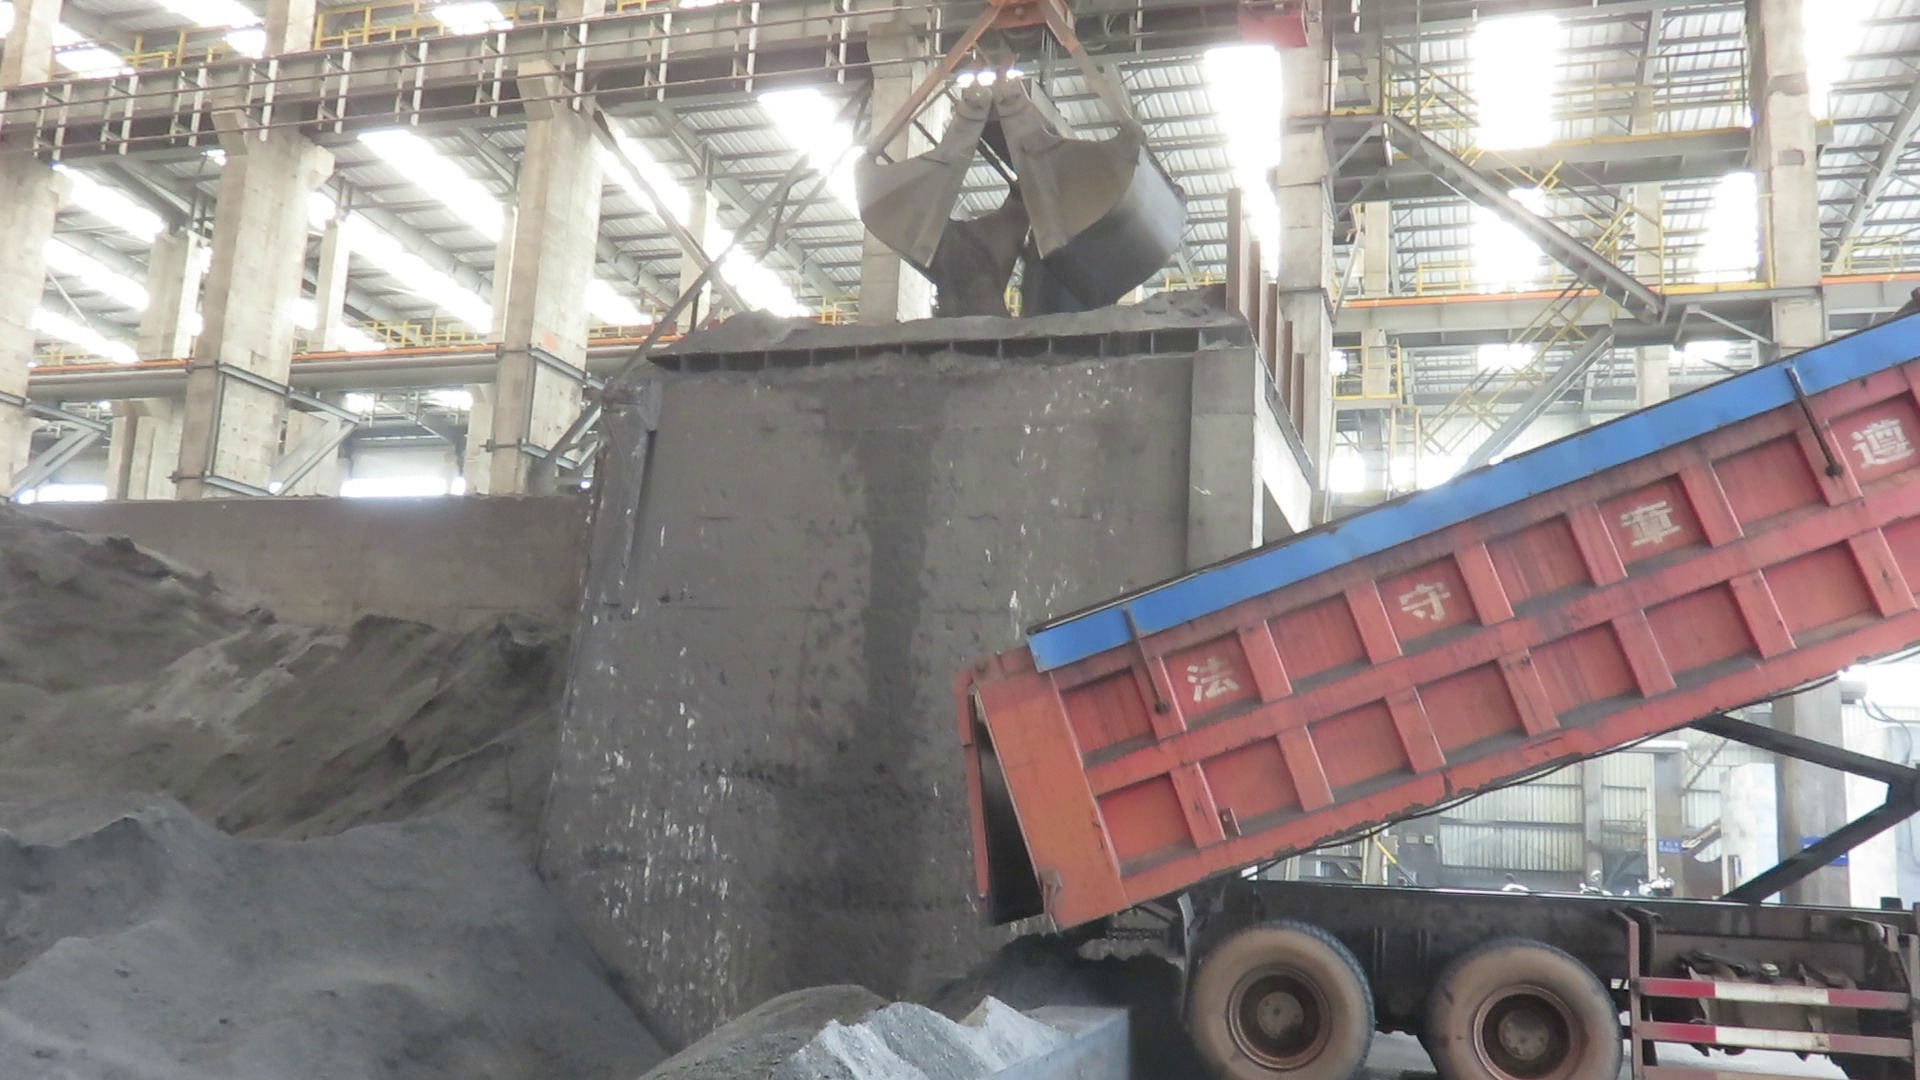grab: (844, 0, 1189, 320)
truck: (945, 291, 1920, 1080)
